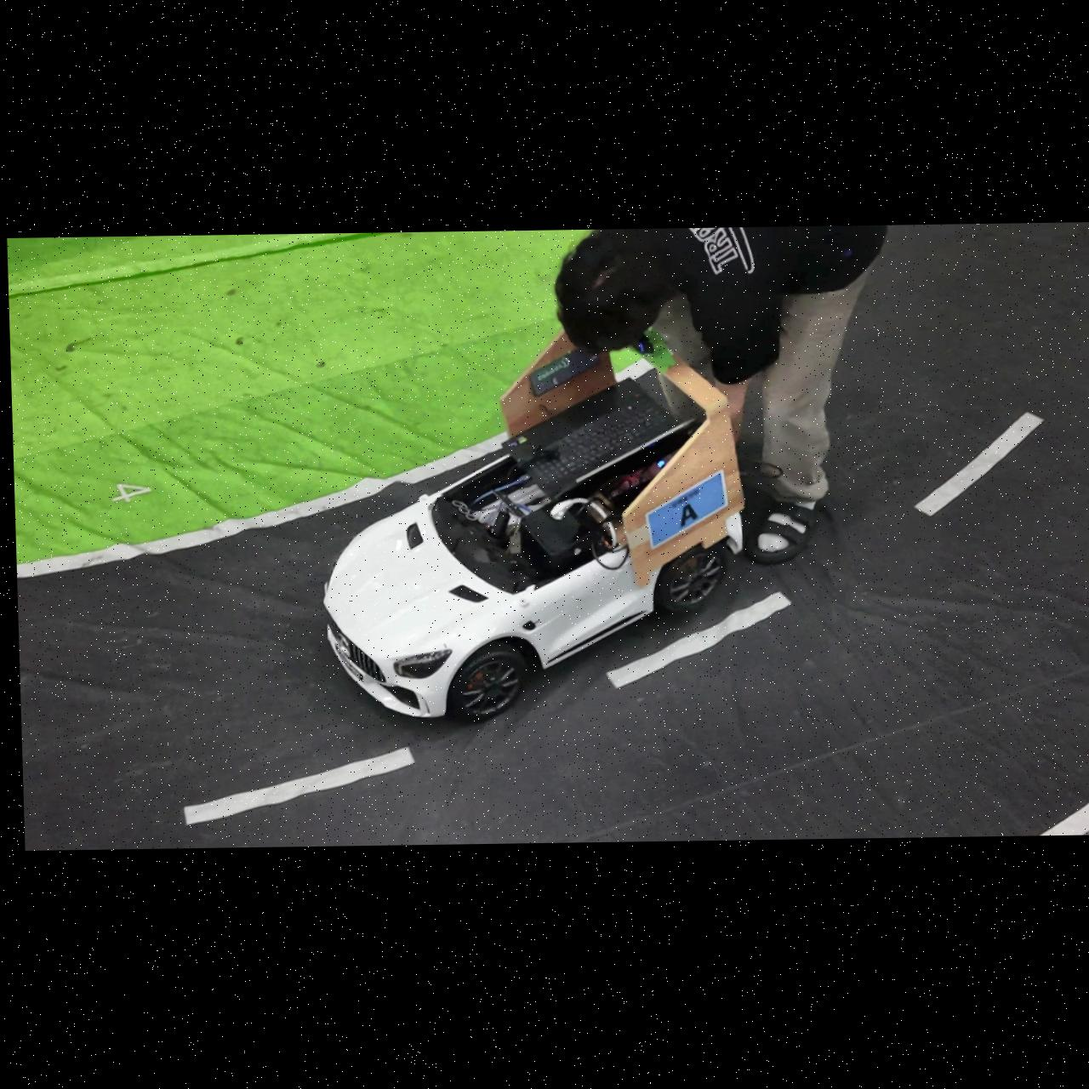broken_line: (185, 747, 416, 826), (606, 591, 792, 689), (914, 412, 1044, 516)
